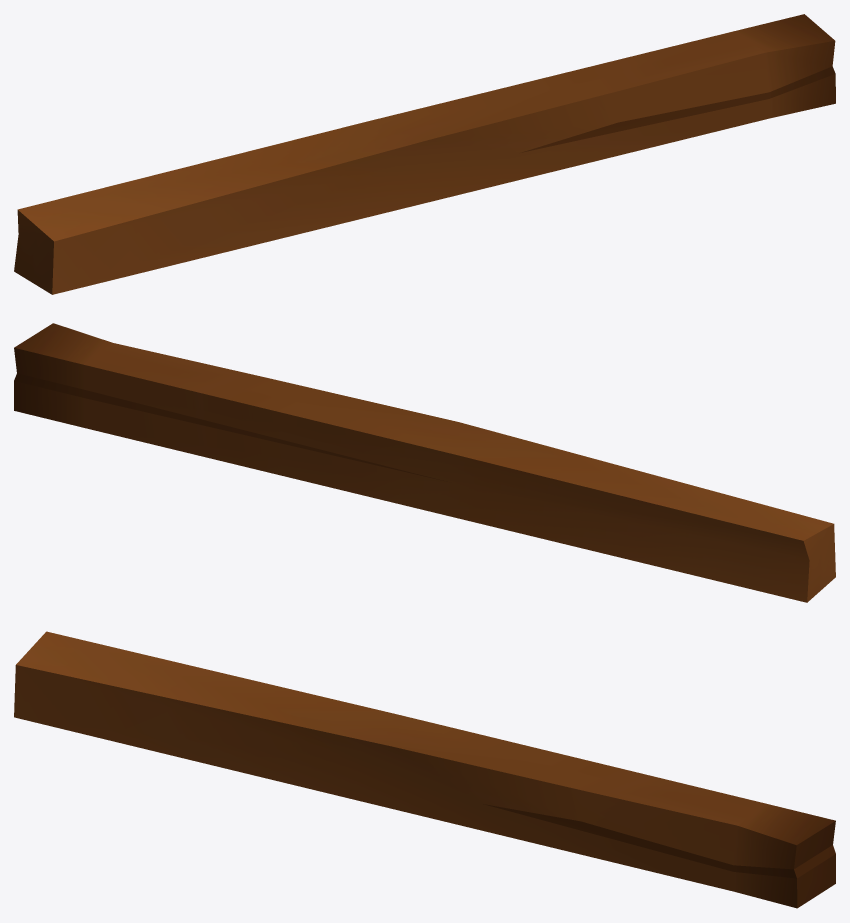
File: Wood_Beam_A.fbx
3 views of the same model, one above another, from view 1: azimuth 30°, elevation 25°; view 2: azimuth 150°, elevation 25°; view 3: azimuth 330°, elevation 25° (orthographic).
Visible parts, largest first — view 1: Wood_Beam_A; view 2: Wood_Beam_A; view 3: Wood_Beam_A.
Part boxes in pixels (x1,y1,x2,y2): Wood_Beam_A: [14, 14, 835, 294]; Wood_Beam_A: [14, 323, 835, 602]; Wood_Beam_A: [14, 631, 835, 908].
Size of the model in its own units: 391 by 29.95 by 29.75.
Materials: 1 (1 with a texture image).
